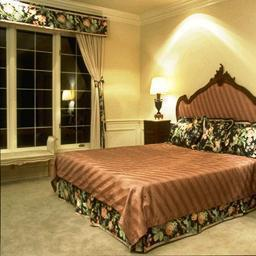Cama: (49, 123, 253, 231)
Ventana: (3, 21, 98, 145)
